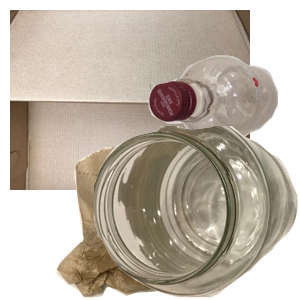cardboard: (10, 10, 250, 190)
glass: (94, 126, 300, 300)
plastic: (146, 53, 300, 187)
trash: (54, 147, 271, 300)
